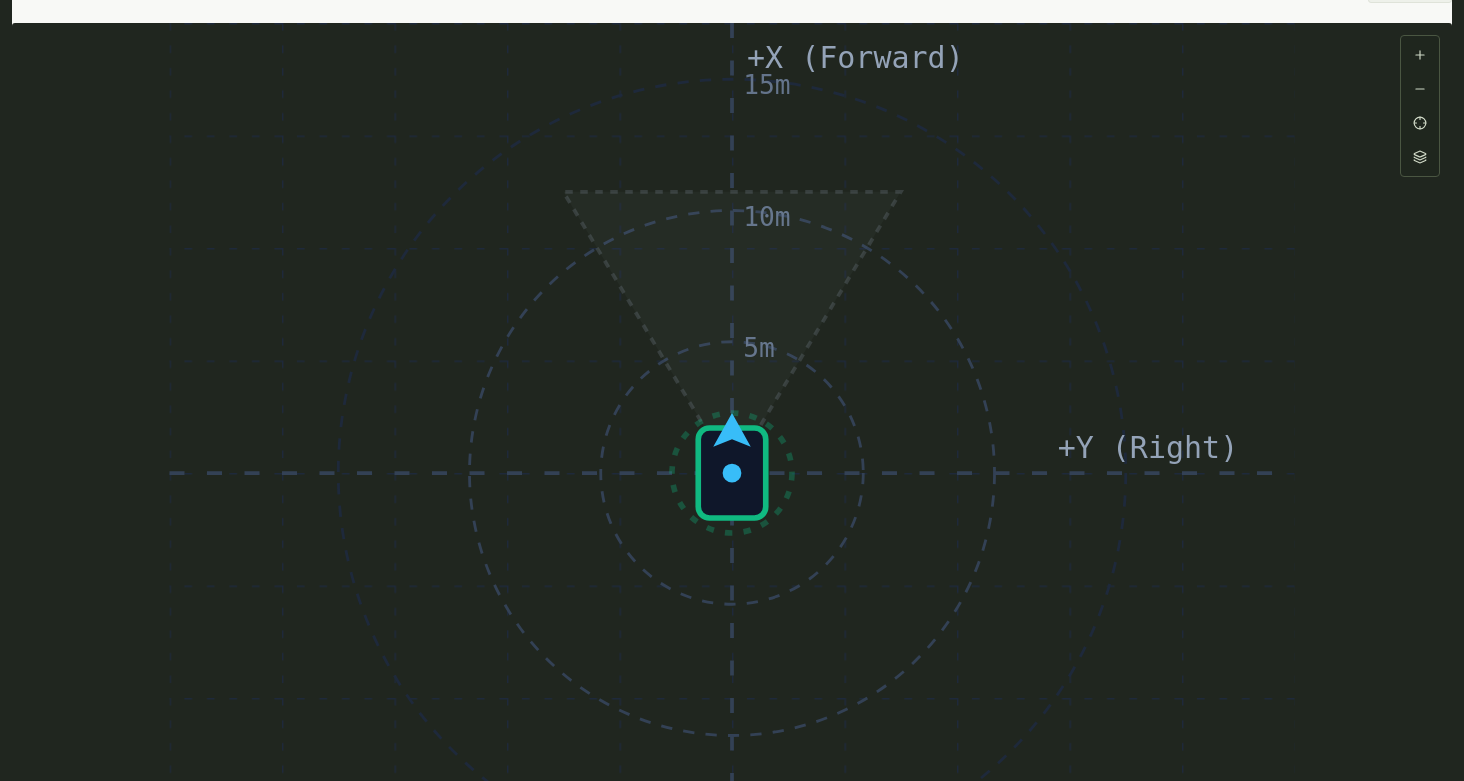
Test case: LiveMap Component › provides accessible map controls with interactive zoom and recenter
Expected: the button named "Zoom Out Map" is shown, [1405,74,1435,104]
Expected: the button named "Recenter Map View" is shown, [1405,108,1435,138]
What coordinates should you click on to do the following:
click the button named "Zoom In Map"
I would click on:
 (1420, 55)
Its box is [1405,40,1435,70].
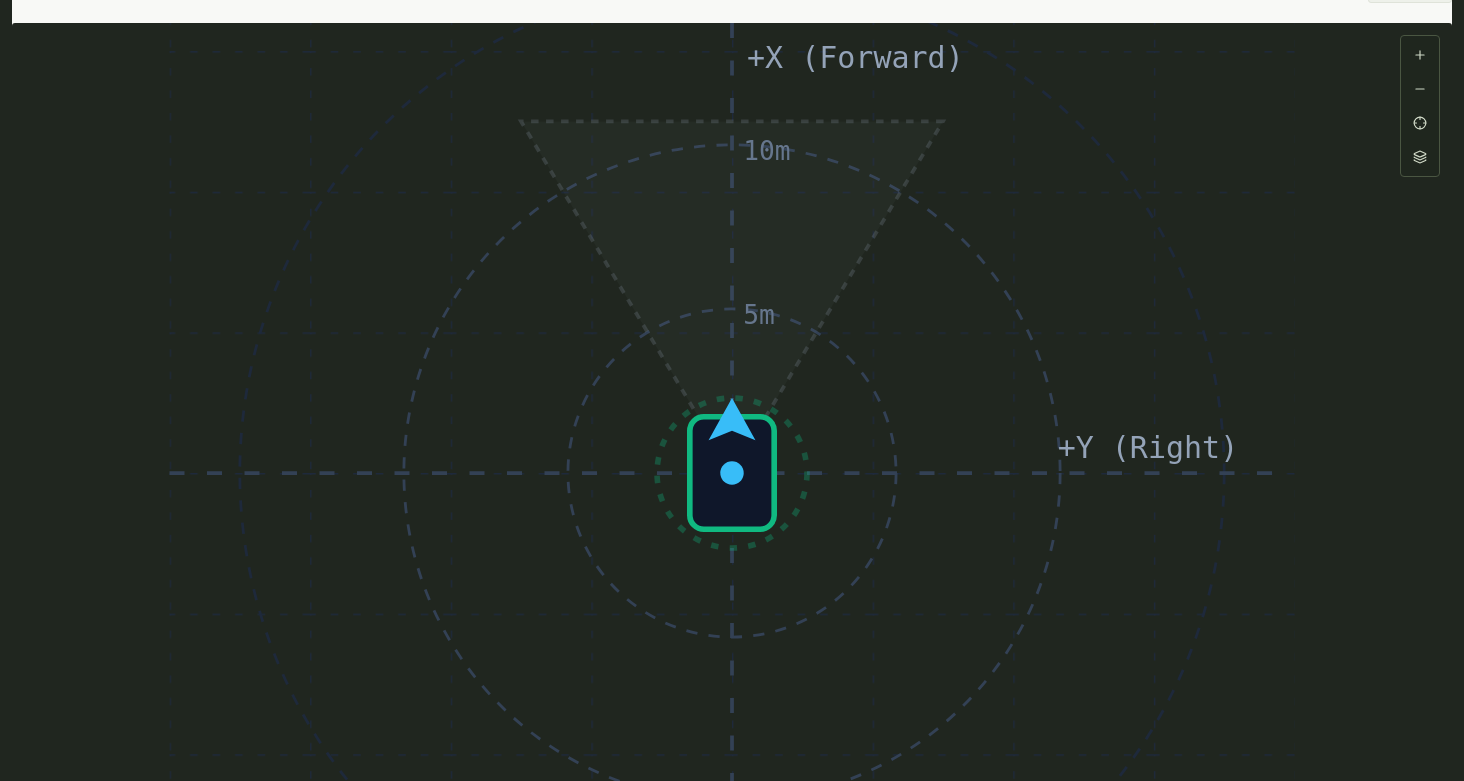
What coordinates should you click on to do the following:
click the button named "Recenter Map View"
I would click on:
 (1420, 123)
Its box is [1405,108,1435,138].
(page scrolled)
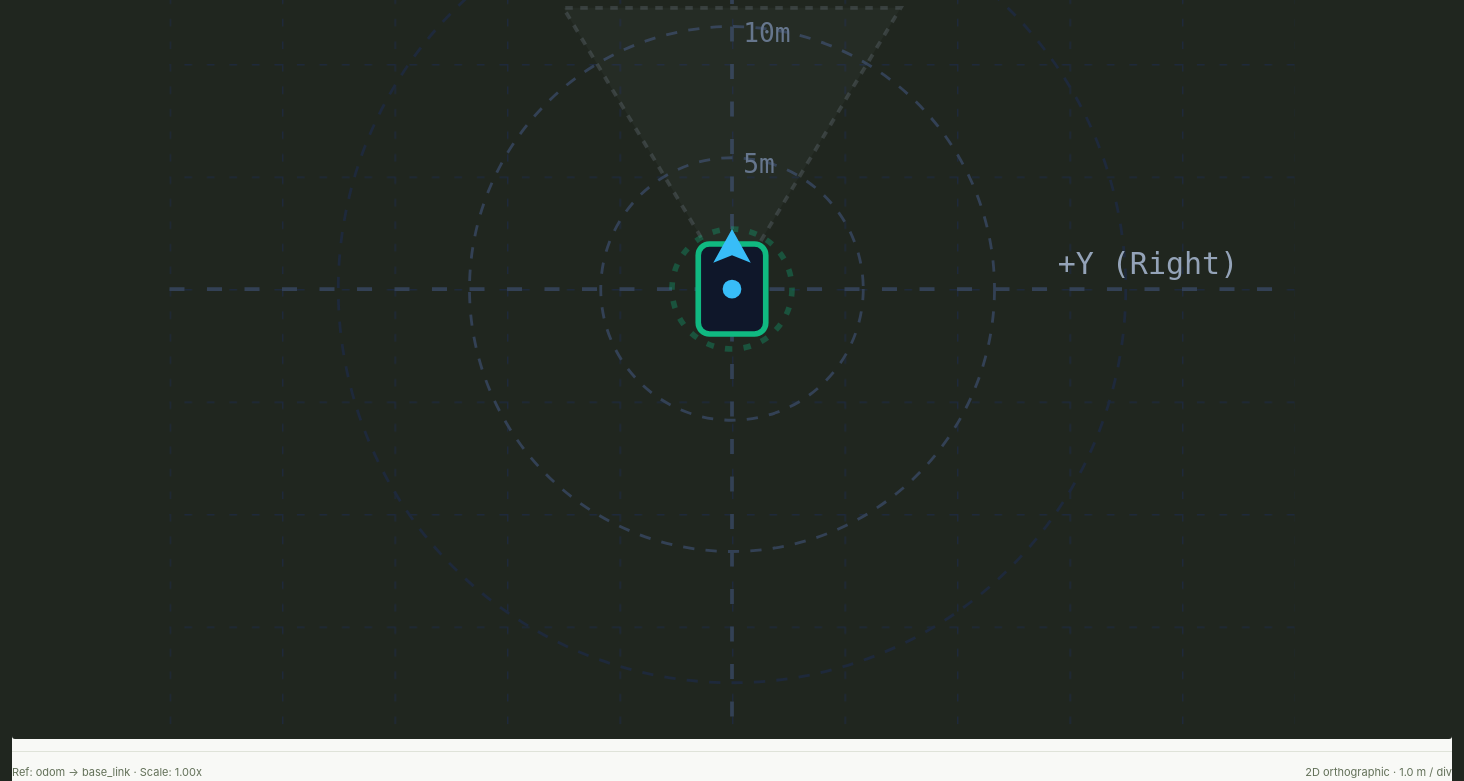
Expected: the text "Ref: odom → base_link · Scale: 1.00x" is shown, [12,764,202,780]
